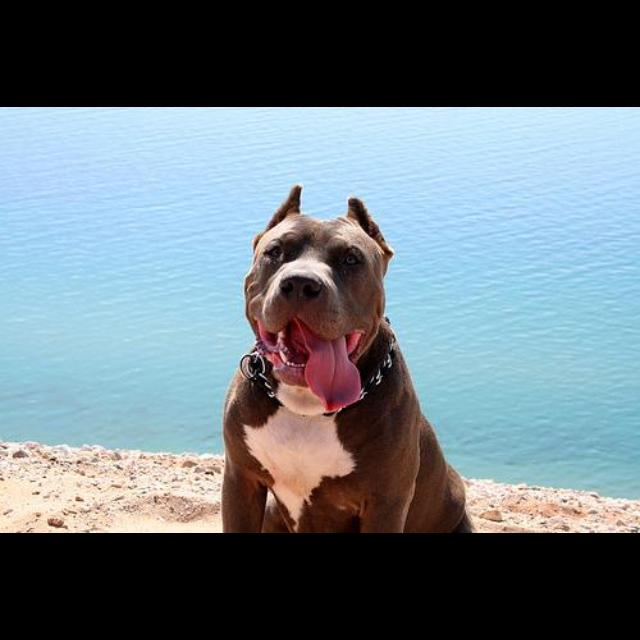amstaff: (220, 184, 476, 533)
